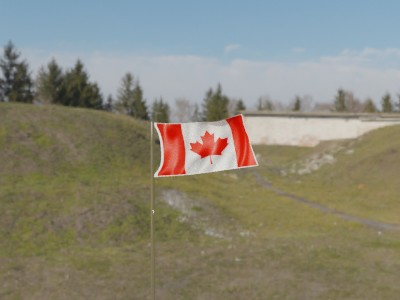Canada flag: (149, 113, 260, 179)
